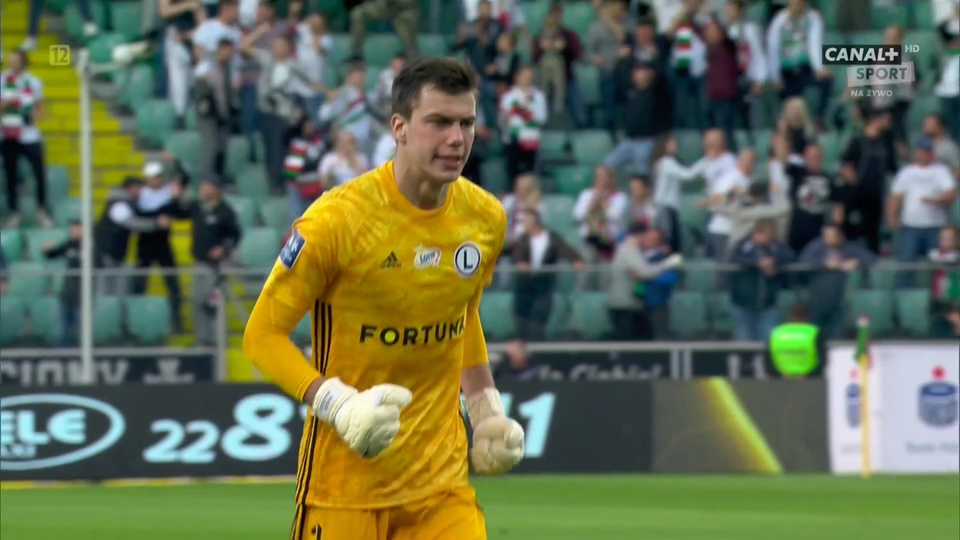Adidas: (379, 251, 403, 270)
